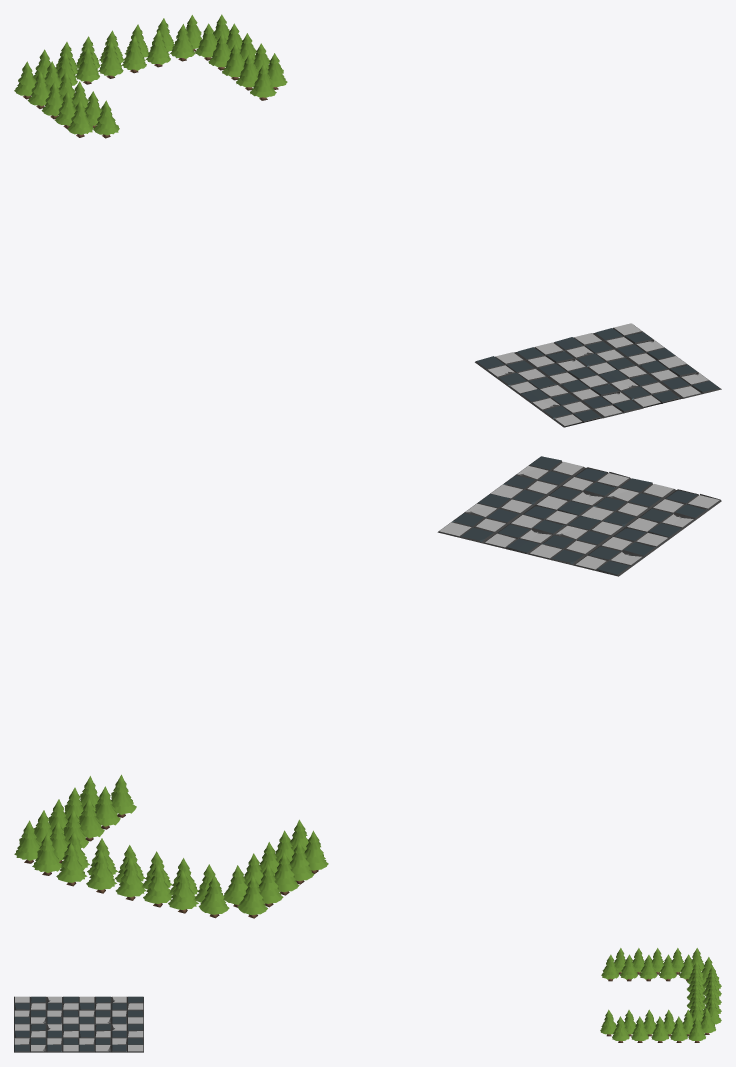
File: trees.glb
3 views of the same model, one above another, from view 1: azimuth 30°, elevation 25°; view 2: azimuth 150°, elevation 25°; view 3: azimuth 270°, elevation 25° (orthographic). The views are drawn at different scales.
Visible parts, largest first — view 1: floor.003_Custom_0; view 2: floor.003_Custom_0; view 3: floor.003_Custom_0, Pine Tree 2_Plant_0.025, Pine Tree 2_Plant_0.022, Pine Tree 2_Plant_0.023, Pine Tree 2_Plant_0.006, Pine Tree 2_Plant_0.007, Pine Tree 2_Plant_0.014, Pine Tree 2_Plant_0.015, Pine Tree 2_Plant_0.013, Pine Tree 2_Plant_0.024, Pine Tree 2_Plant_0.016, Pine Tree 2_Plant_0.018 (+8 smaller).
Part boxes in pixels (bbox=[...]): floor.003_Custom_0: bbox=[475, 323, 721, 427]; floor.003_Custom_0: bbox=[437, 456, 721, 576]; floor.003_Custom_0: bbox=[14, 996, 143, 1052]; Pine Tree 2_Plant_0.025: bbox=[601, 954, 619, 981]; Pine Tree 2_Plant_0.022: bbox=[659, 954, 676, 981]; Pine Tree 2_Plant_0.023: bbox=[620, 954, 637, 981]; Pine Tree 2_Plant_0.006: bbox=[612, 1016, 629, 1042]; Pine Tree 2_Plant_0.007: bbox=[631, 1016, 648, 1042]; Pine Tree 2_Plant_0.014: bbox=[670, 1016, 687, 1042]; Pine Tree 2_Plant_0.015: bbox=[688, 1016, 705, 1042]; Pine Tree 2_Plant_0.013: bbox=[651, 1016, 668, 1042]; Pine Tree 2_Plant_0.024: bbox=[639, 955, 657, 981]; Pine Tree 2_Plant_0.016: bbox=[600, 1009, 616, 1036]; Pine Tree 2_Plant_0.018: bbox=[701, 1008, 715, 1034].
Bounding box in the file's own units: 48.43 × 7.27 × 176.
Materials: 34 (34 with a texture image).
